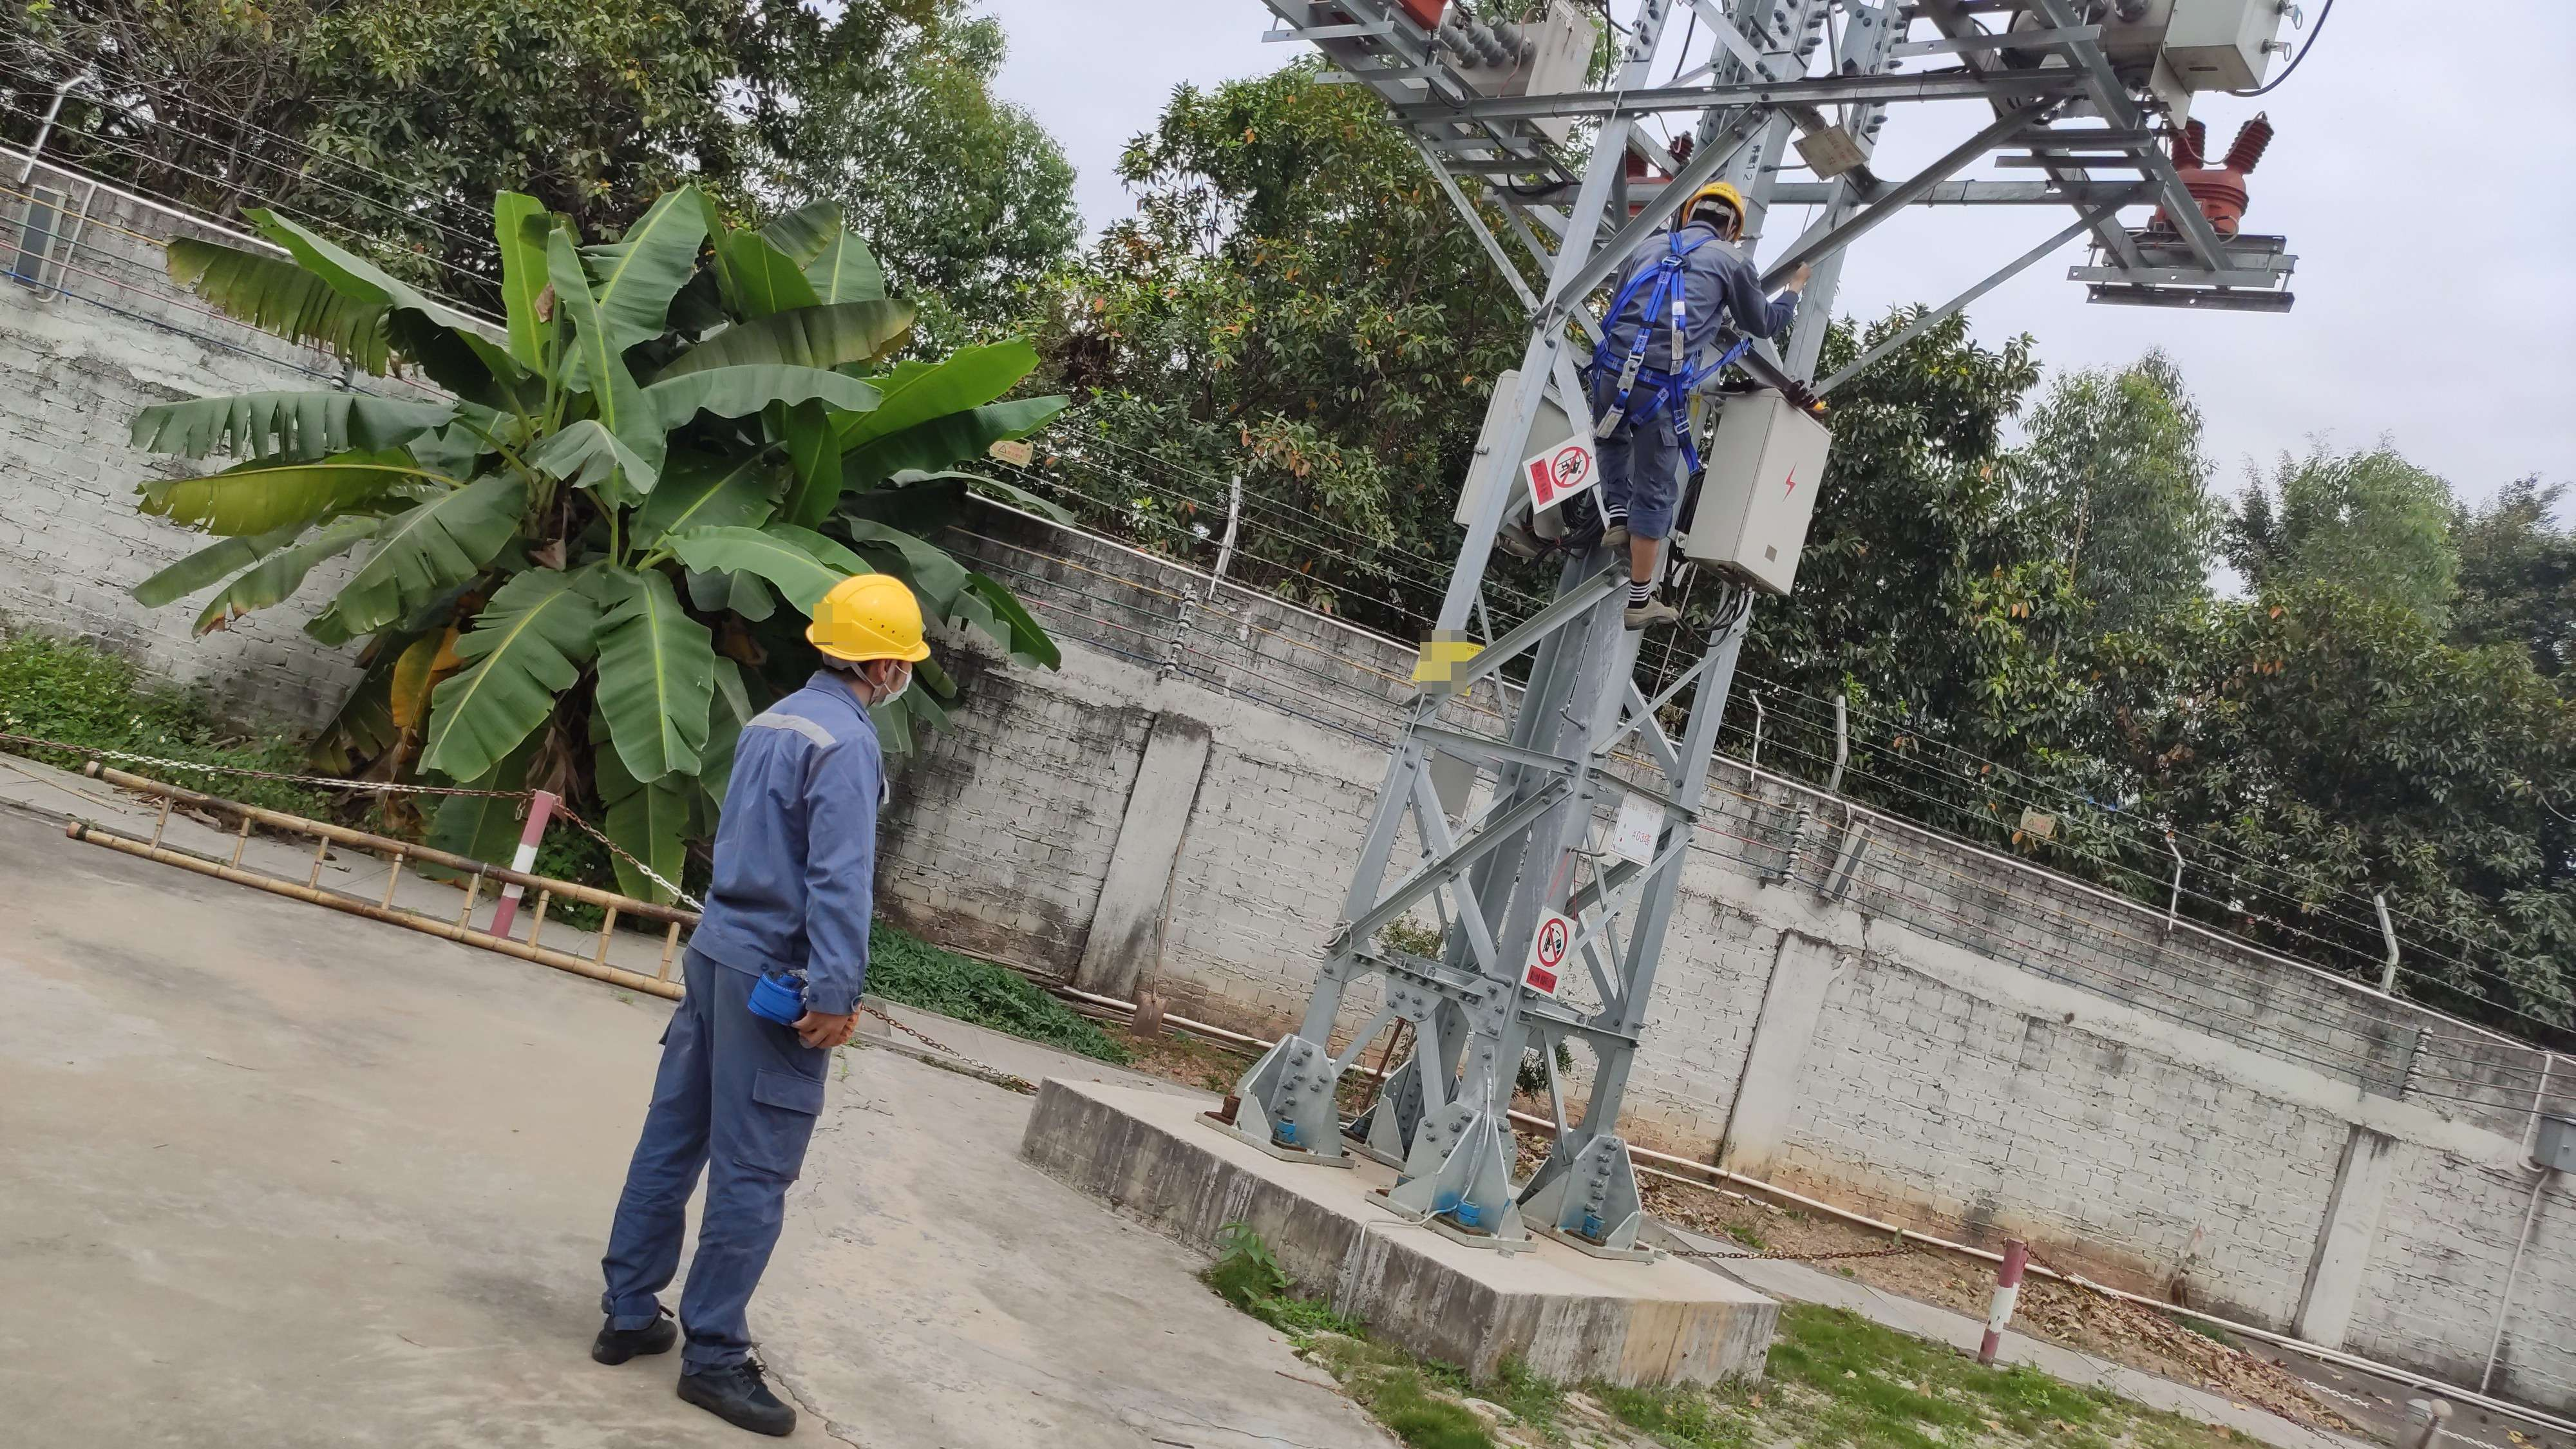downsuit: (603, 975, 817, 1334), (1596, 393, 1674, 529)
upsuit: (701, 704, 886, 1000), (1605, 235, 1737, 382)
wrongbottom: (1628, 497, 1667, 584)
